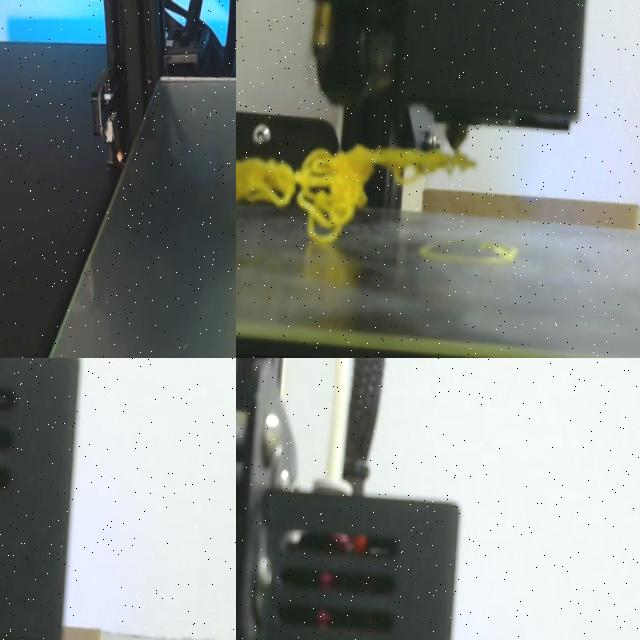spaghetti: (236, 145, 474, 243)
